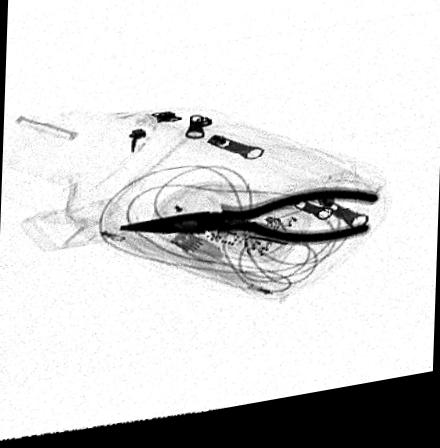Pliers: (116, 198, 385, 259)
